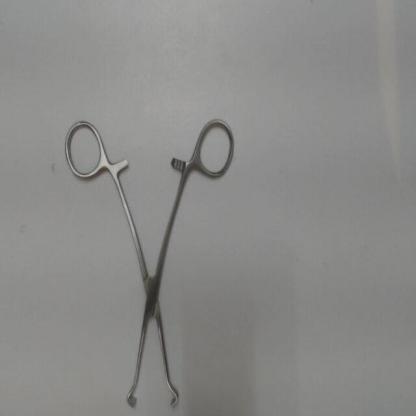Babcock Tissue Forceps: (60, 115, 240, 415)
